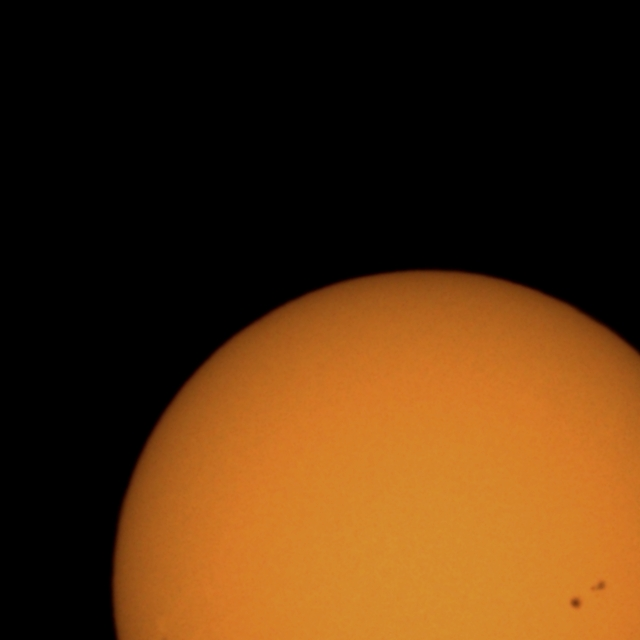sunspot: (568, 578, 608, 610), (588, 578, 608, 594), (568, 594, 584, 612)
